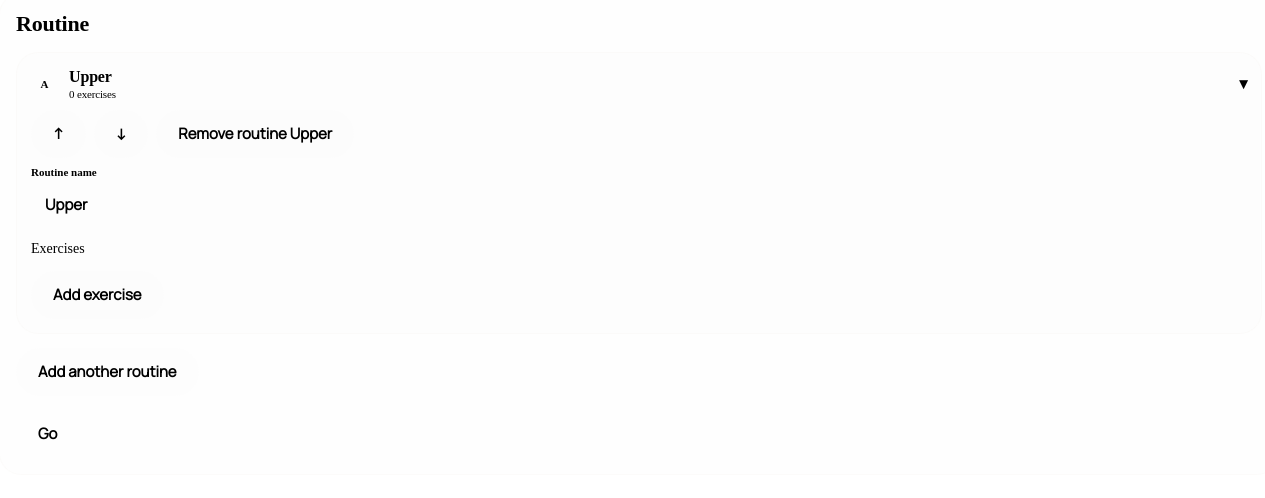
Test: ManualRoutineEditor validation › tells the user to add an exercise to an empty routine
This screenshot has width=1265, height=498.
Step 1. Click the button "Go" → (48, 434), box x1=16 y1=410 x2=80 y2=458
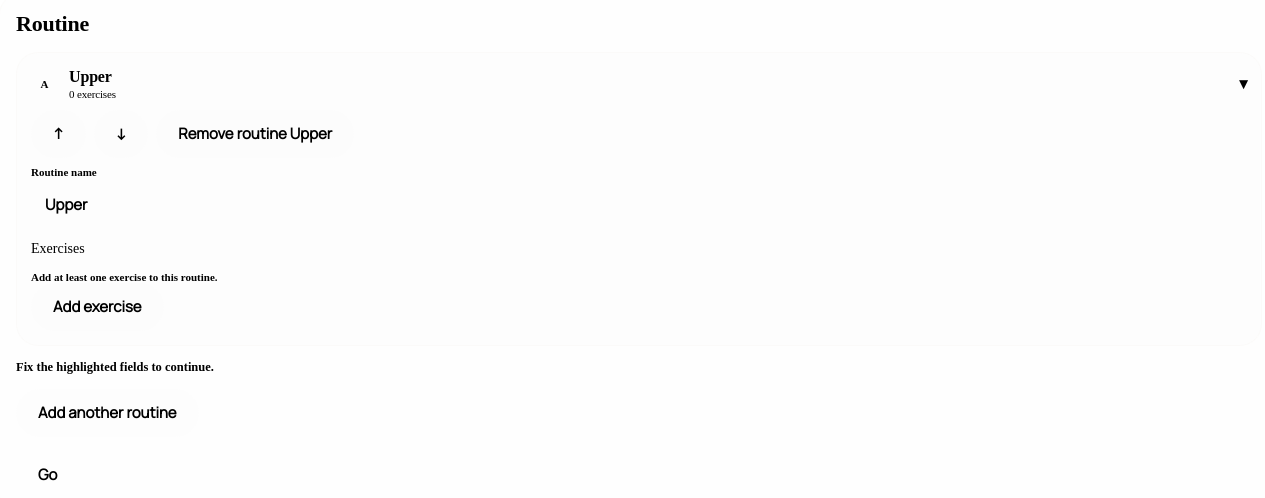
Result: the text "Add at least one exercise to this routine." is shown at x1=31 y1=271 x2=218 y2=283
